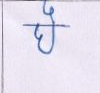ai_matra: (42, 1, 58, 24)
